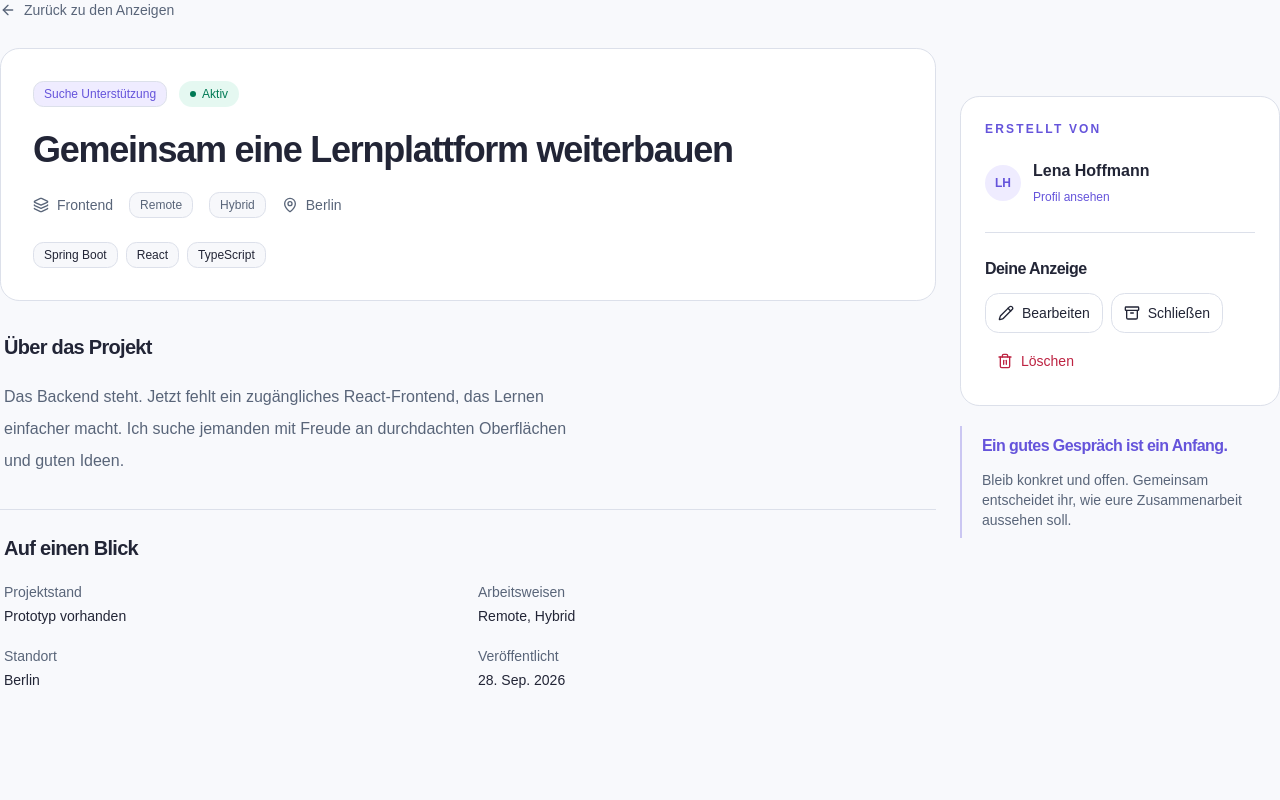
Test case: Anzeigen › zeigt Eigentümeraktionen statt Kontakt und bestätigt Schließen
The width and height of the screenshot is (1280, 800).
Check: the heading "Deine Anzeige" is shown, box [985,260,1086,277]
Click the button "Schließen": (1167, 313) [1111,293,1223,333]
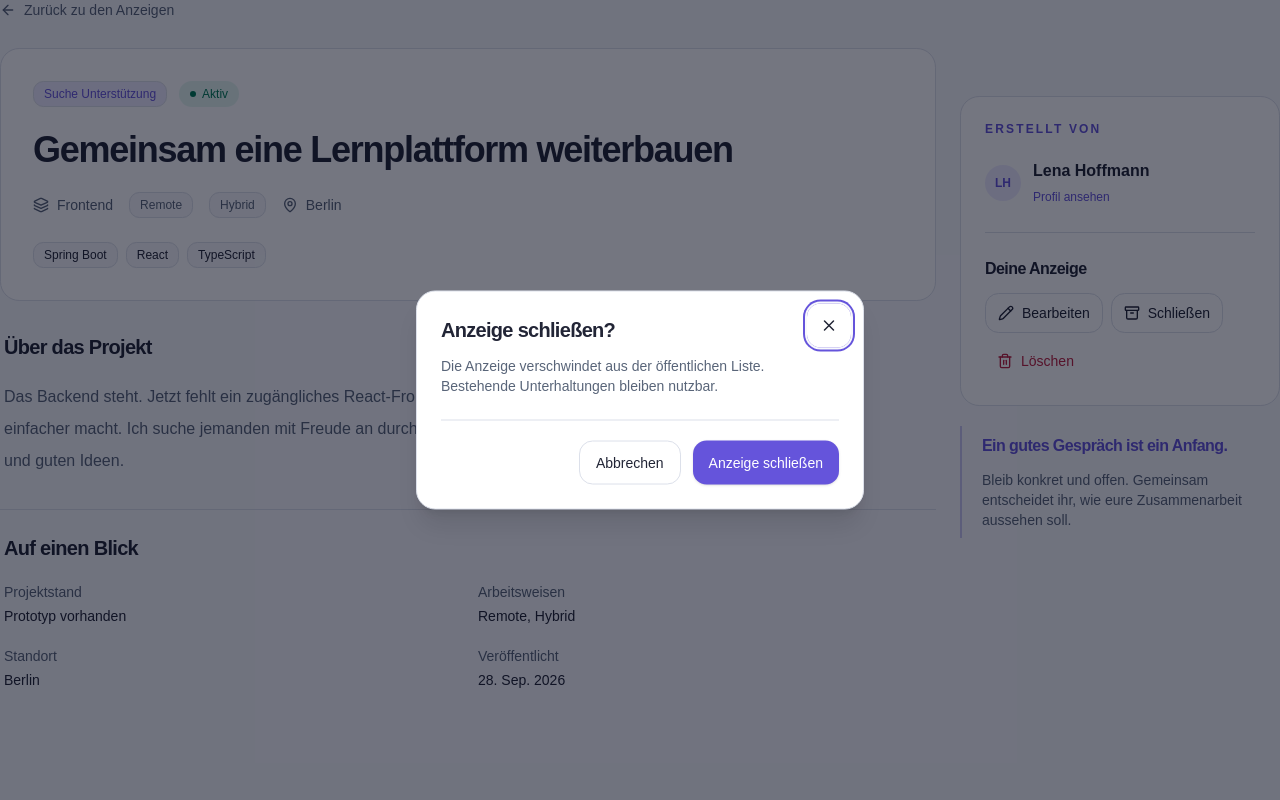
Check: the dialog is shown, box [416,290,864,510]
Click the button "Anzeige schließen": (766, 462) [693,440,839,484]
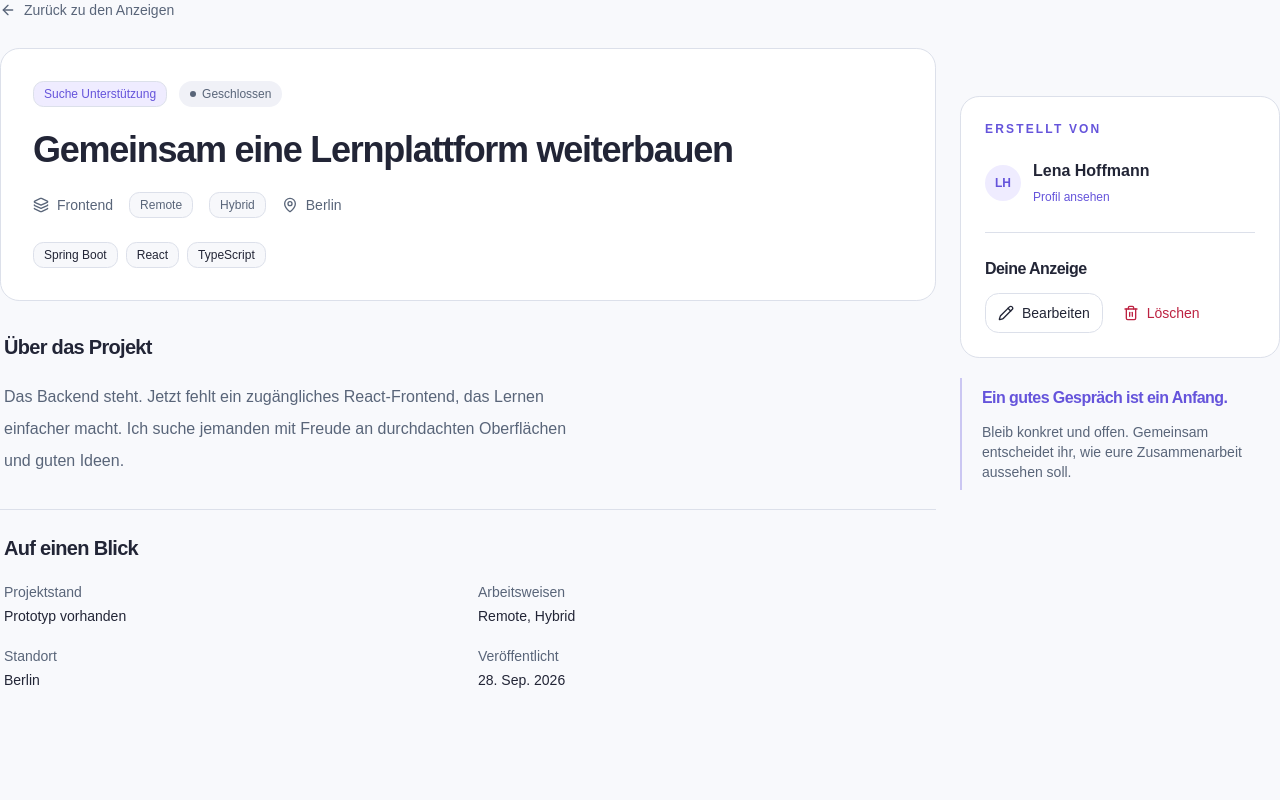
Check: the text "Geschlossen" is shown, box [179,81,282,107]
